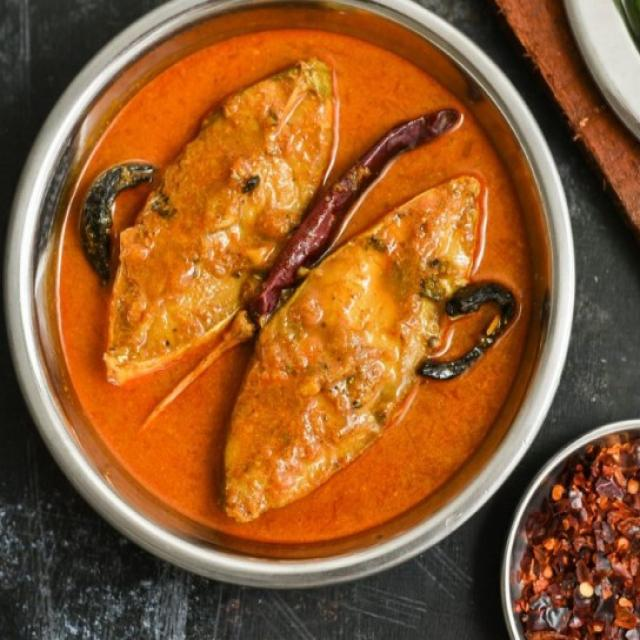FISH CURRY: (9, 0, 573, 579)
